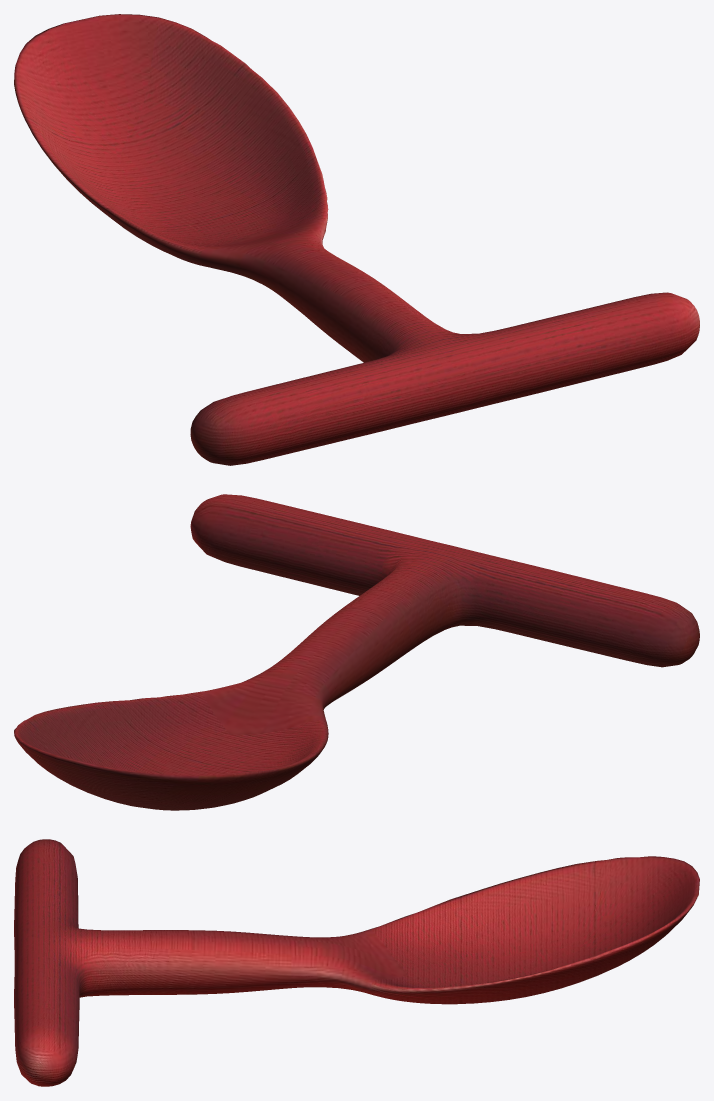
The model's file is 05_TSpoon.glb.
The picture shows the model from 3 angles, top to bottom: view 1: azimuth 30°, elevation 25°; view 2: azimuth 150°, elevation 25°; view 3: azimuth 270°, elevation 25°; orthographic projection. The views are drawn at different scales.
Visible parts, largest first — view 1: 05_T Spoon; view 2: 05_T Spoon; view 3: 05_T Spoon.
Part boxes in pixels (left/top/right/bottom): 05_T Spoon: left=14, top=14, right=699, bottom=465; 05_T Spoon: left=14, top=494, right=699, bottom=810; 05_T Spoon: left=14, top=839, right=699, bottom=1086.
Size of the model in its own units: 0.0708 by 0.0164 by 0.0948.
Materials: 1 (1 with a texture image).
